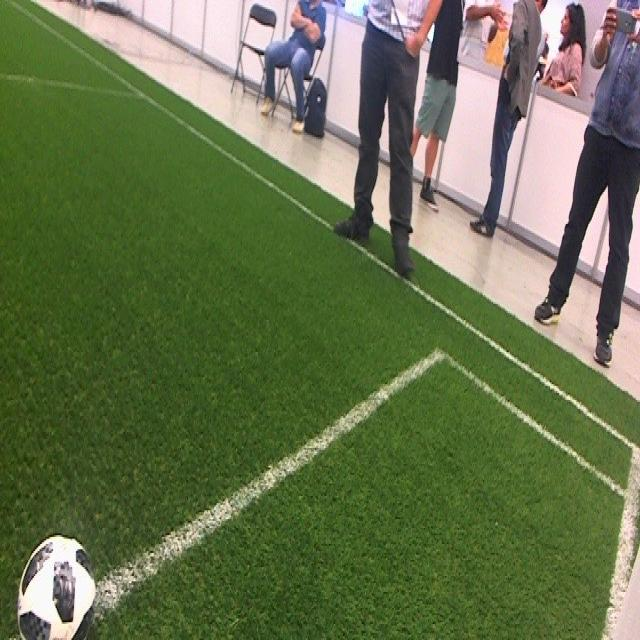ball: (17, 532, 99, 638)
goalpost: (613, 550, 640, 638)
